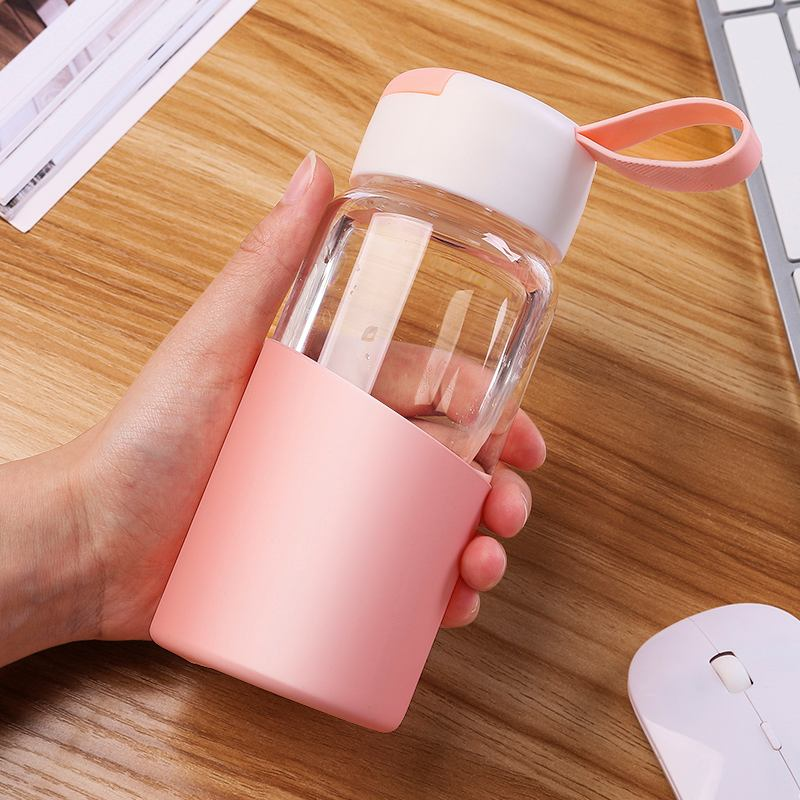no-phone: (60, 71, 612, 734)
